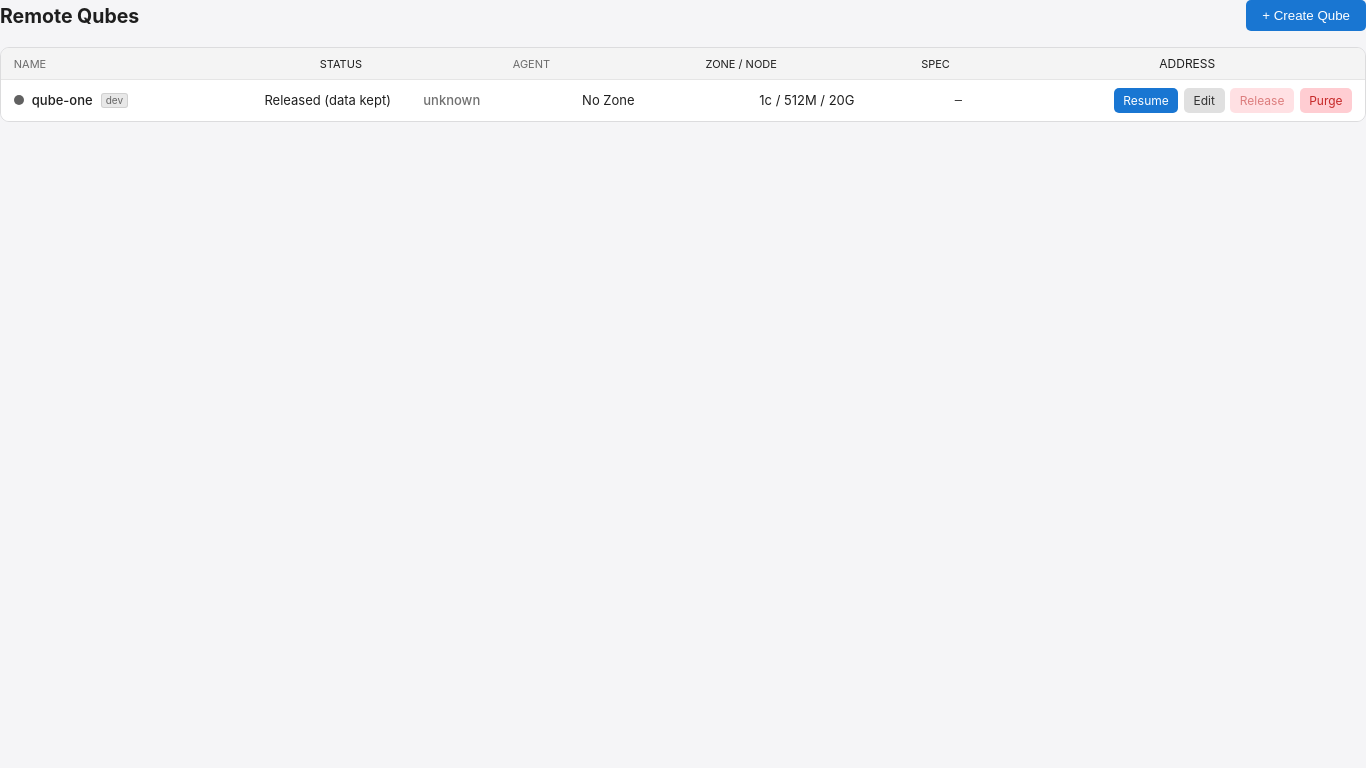
Scenario: QubeList edit flow › discards unsaved edits on cancel and reopens with the stored values
Expected: the 7th text "qube-one" is shown, x1=32 y1=92 x2=93 y2=108
Click the 2nd button named "edit": (1204, 100) x1=1184 y1=88 x2=1225 y2=113
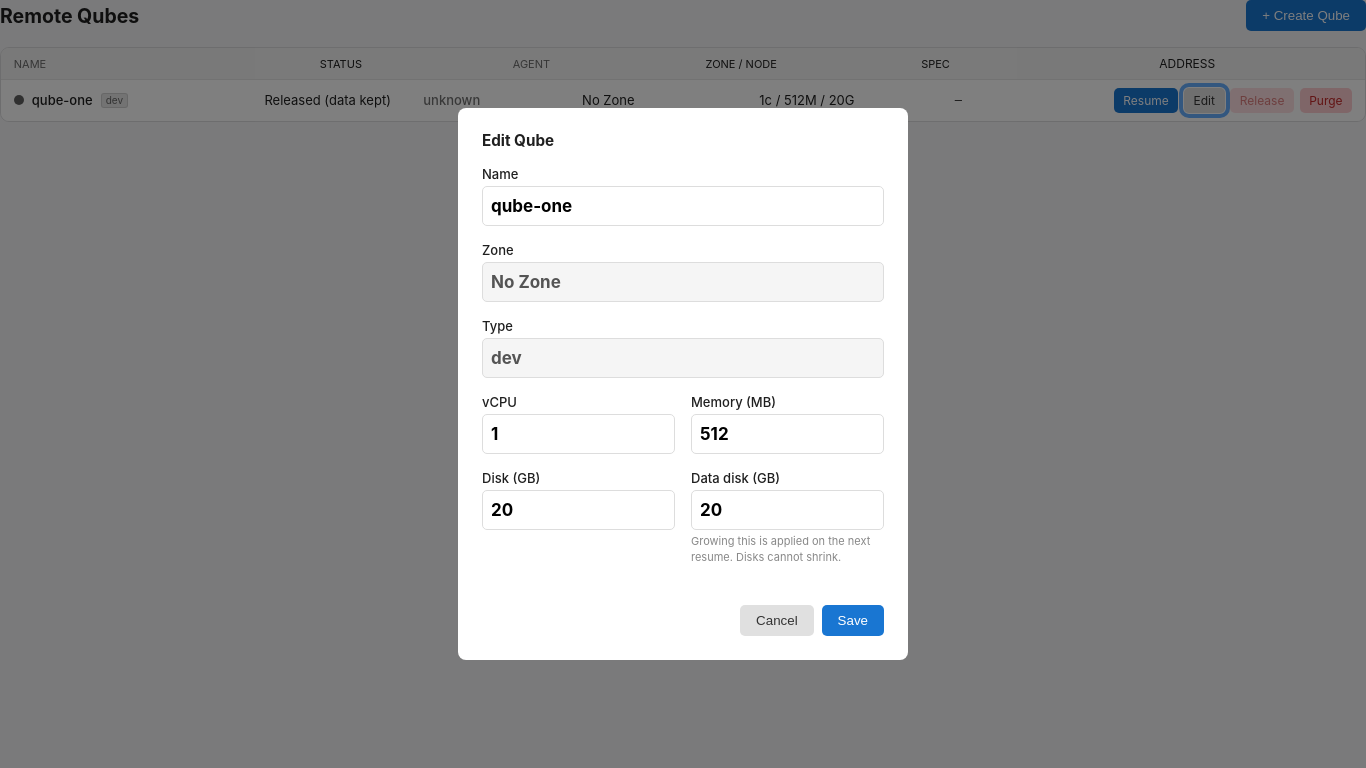
Replace the text in the 1st field named "name" with "half-typed": (683, 206) x1=482 y1=186 x2=884 y2=226
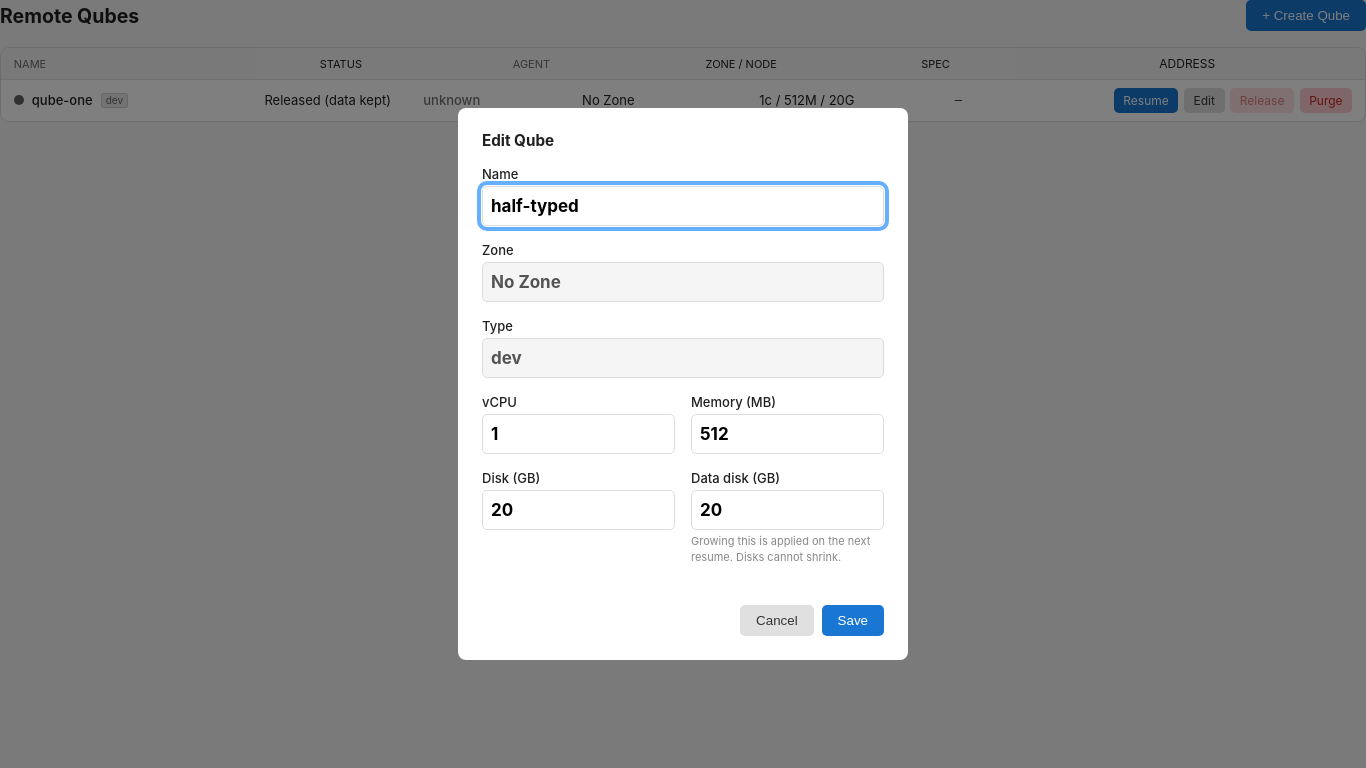
Click the button "Cancel": (777, 621) x1=740 y1=605 x2=814 y2=636
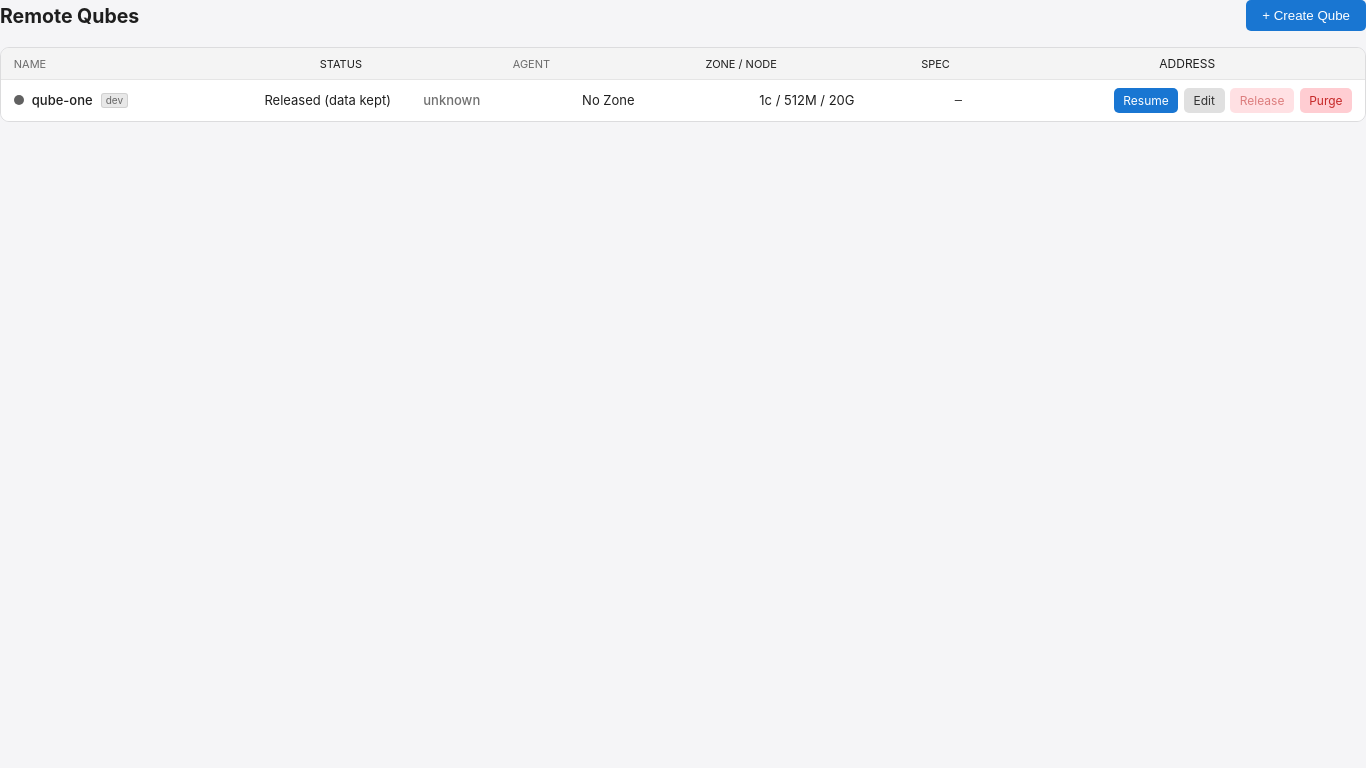
Expected: the dialog "edit qube" is not shown
Click the 2nd button named "edit": (1204, 100) x1=1184 y1=88 x2=1225 y2=113
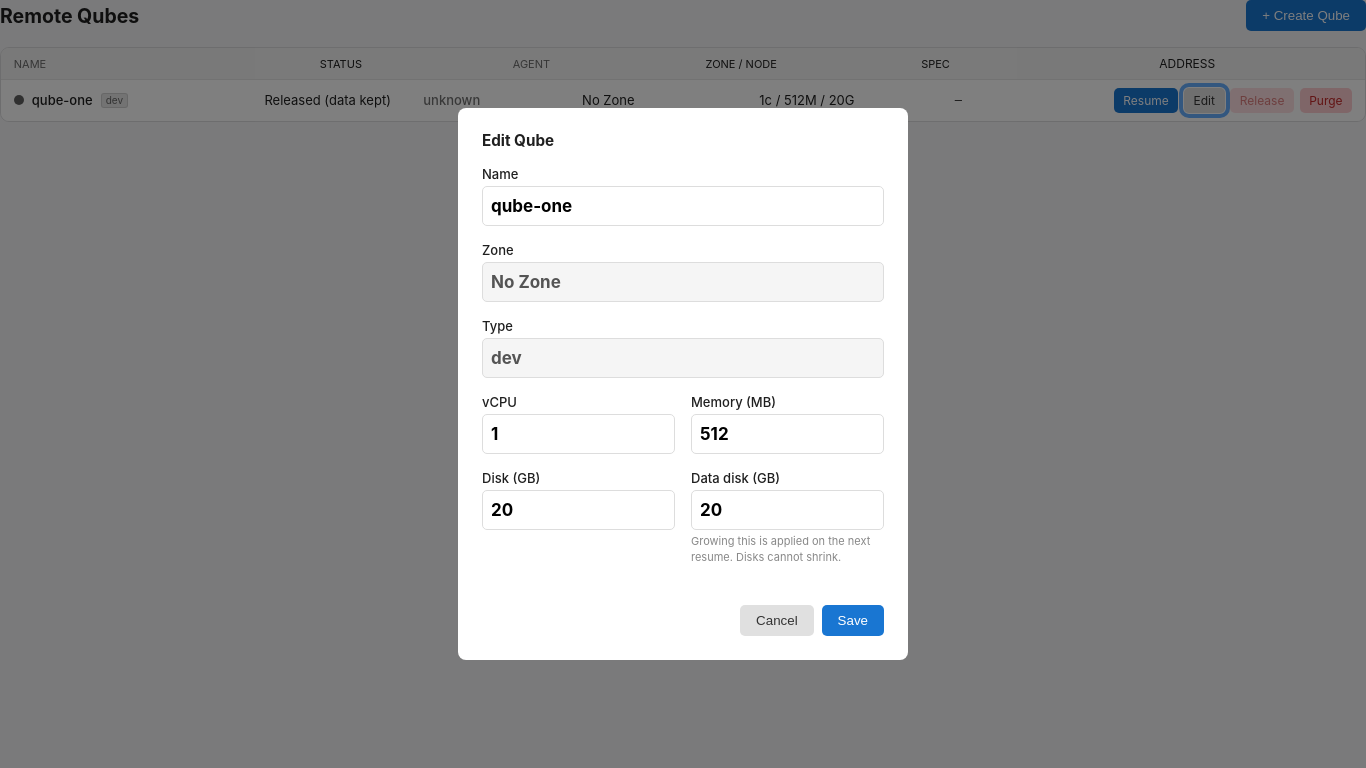
Expected: the 1st field named "name" holds "qube-one", x1=482 y1=186 x2=884 y2=226
